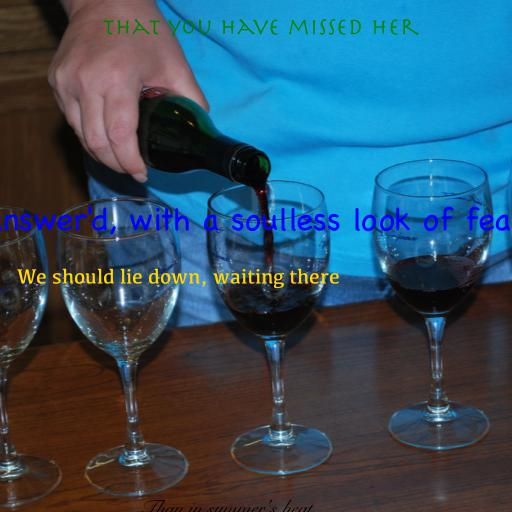Chalkboard: (0, 206, 512, 235)
Herculanum: (103, 19, 419, 37)
Kefa: (16, 268, 340, 289)
Snell Roundhand: (139, 499, 313, 512)
